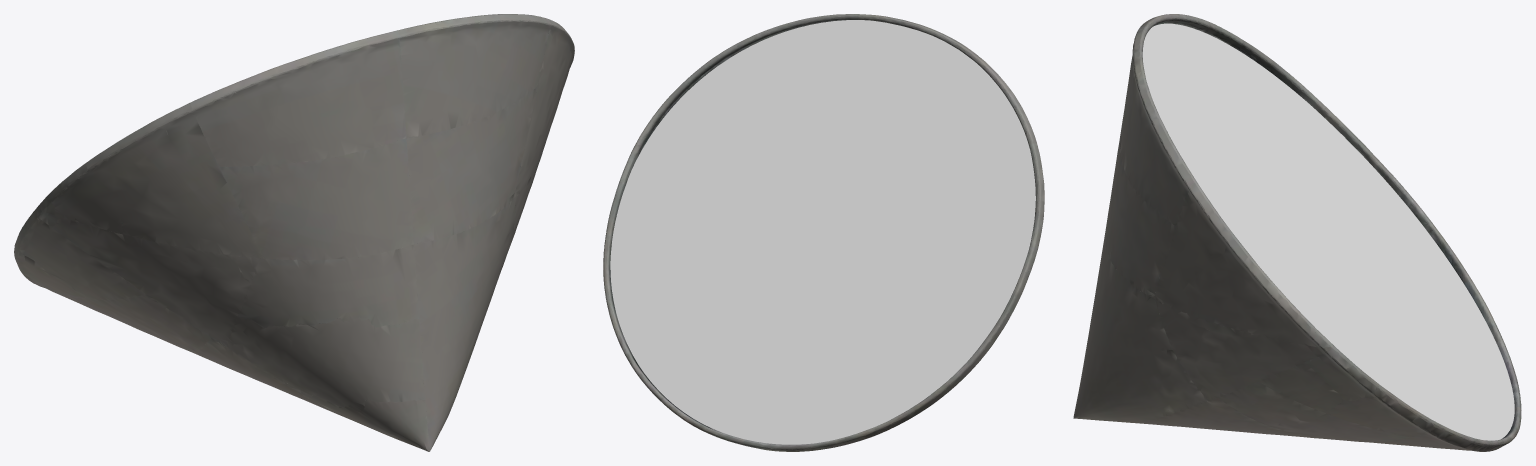
File: 10_1_st_sm_mirror-opt-v55.glb
3 views of the same model, side by side, from view 1: azimuth 30°, elevation 25°; view 2: azimuth 150°, elevation 25°; view 3: azimuth 270°, elevation 25° (orthographic). The views are drawn at different scales.
Visible parts, largest first — view 1: tripo_mat_12f8a496-6997-43f2-a11e-6d7ac397b8cf.002; view 2: tripo_mat_12f8a496-6997-43f2-a11e-6d7ac397b8cf.002; view 3: tripo_mat_12f8a496-6997-43f2-a11e-6d7ac397b8cf.002.
Boxes of the visible parts, bbox=[...] form: tripo_mat_12f8a496-6997-43f2-a11e-6d7ac397b8cf.002: bbox=[14, 14, 574, 451]; tripo_mat_12f8a496-6997-43f2-a11e-6d7ac397b8cf.002: bbox=[603, 14, 1044, 451]; tripo_mat_12f8a496-6997-43f2-a11e-6d7ac397b8cf.002: bbox=[1073, 14, 1521, 451].
Size of the model in its own units: 0.22 by 0.1608 by 0.1776.
2 materials, 1 textured.
